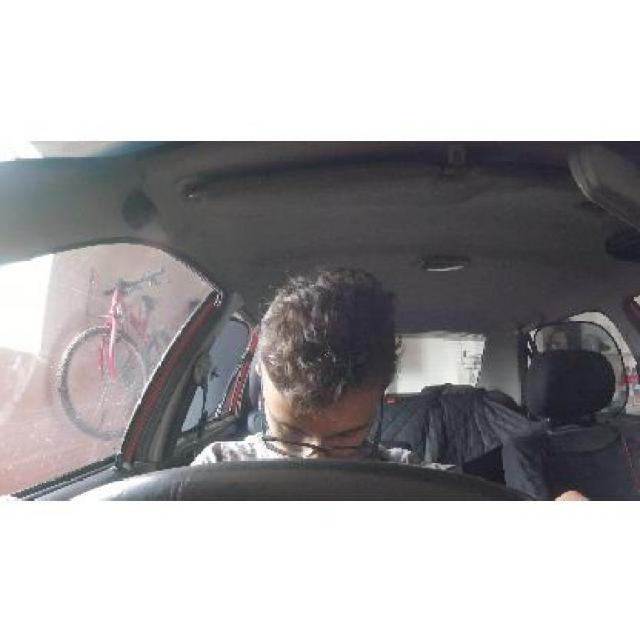drowsy: (248, 268, 404, 468)
